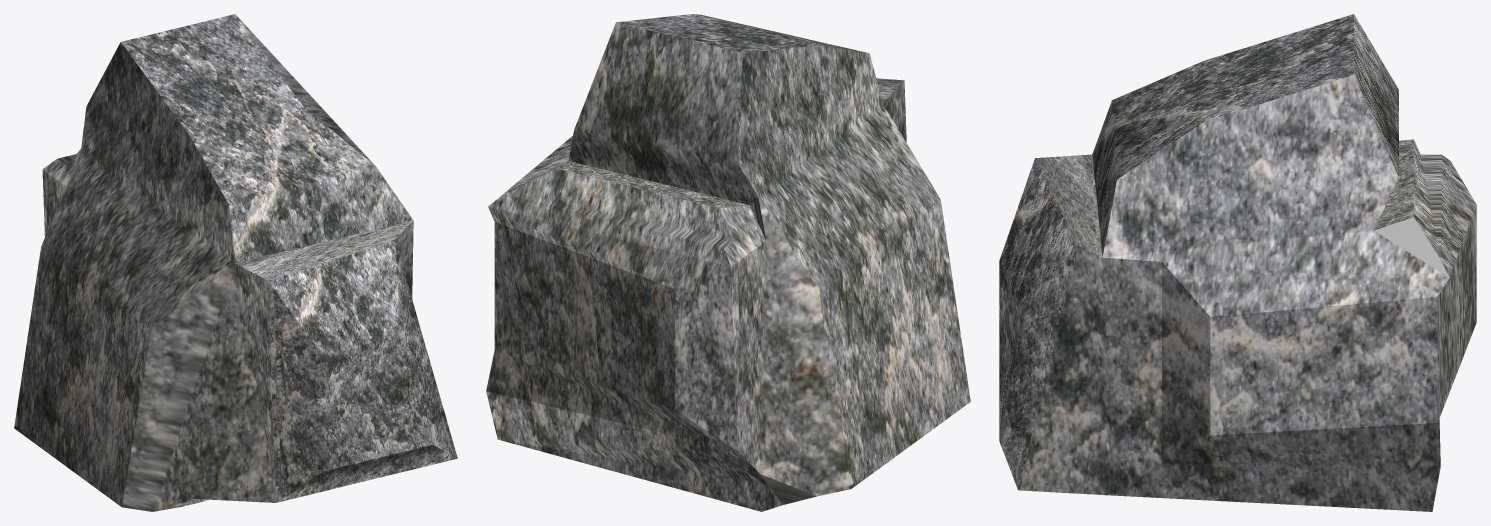
File: rock1.FBX
The picture shows the model from 3 angles, left to right: view 1: azimuth 30°, elevation 25°; view 2: azimuth 150°, elevation 25°; view 3: azimuth 270°, elevation 25°; orthographic projection. The views are drawn at different scales.
Parts seen in each view (by area): view 1: pCube3; view 2: pCube3; view 3: pCube3.
Part boxes in pixels (<box>): pCube3: <box>14,14,457,511</box>; pCube3: <box>486,14,970,511</box>; pCube3: <box>999,14,1476,511</box>.
Bounding box in the file's own units: 2.85 × 3.36 × 3.39.
1 material, 1 textured.
